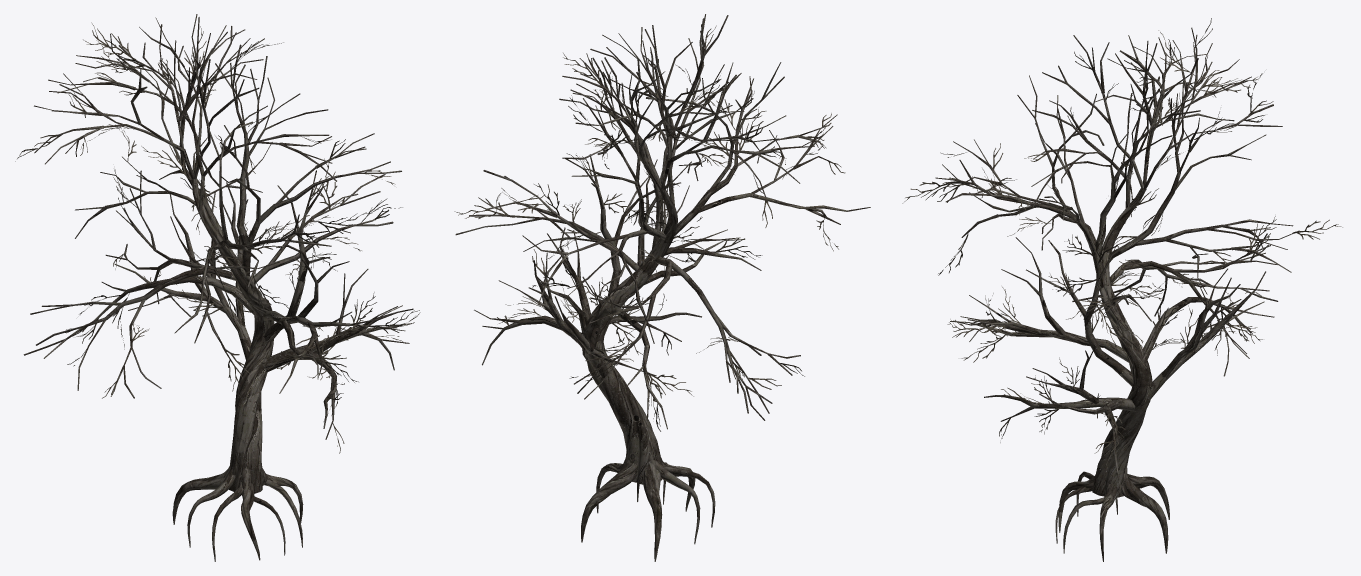
File: Tree1-2-Empty.fbx
3 renders of one model, left to right at view 1: azimuth 30°, elevation 25°; view 2: azimuth 150°, elevation 25°; view 3: azimuth 270°, elevation 25°, orthographic. The views are drawn at different scales.
Visible parts, largest first — view 1: Tree1-2-Empty_LOD0; view 2: Tree1-2-Empty_LOD0; view 3: Tree1-2-Empty_LOD0.
Part boxes in pixels (x1,y1,x2,y2): Tree1-2-Empty_LOD0: (15, 14, 420, 561); Tree1-2-Empty_LOD0: (454, 14, 870, 561); Tree1-2-Empty_LOD0: (902, 18, 1342, 561).
Size of what is drawn, in the model's own units: 5.87 by 6.78 by 8.11.
